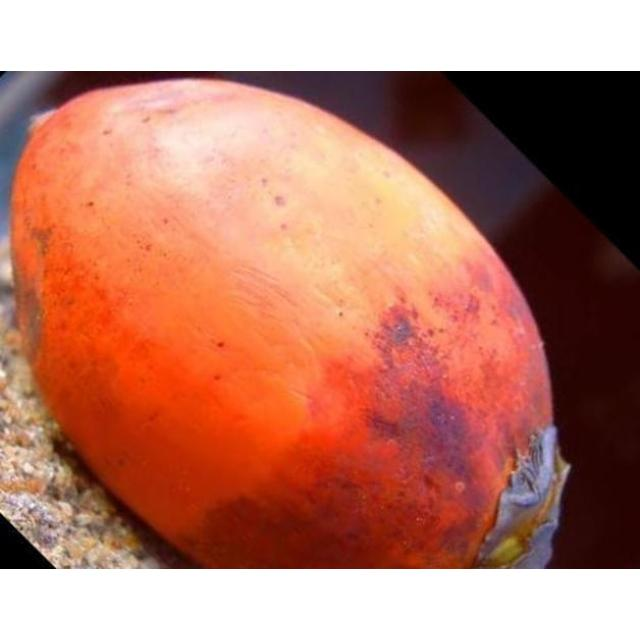good: (8, 78, 572, 568)
